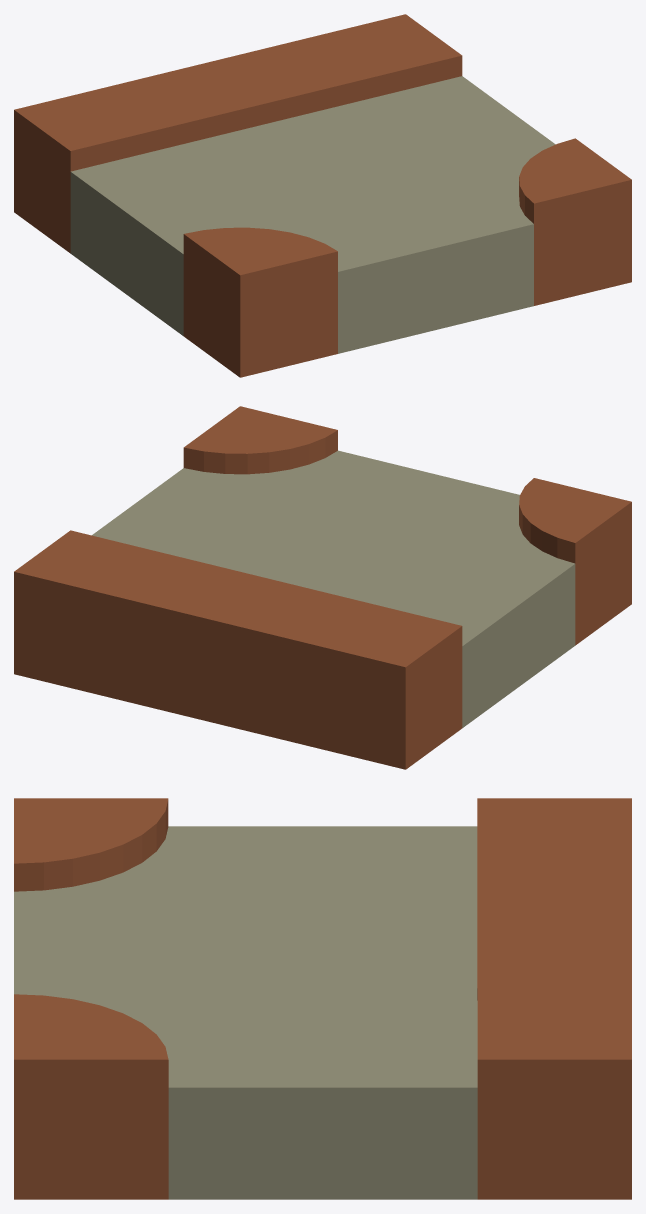
Rendered from Floor-Outdoor-4x4x1-Path-Narrow-Tee.FBX.
3 views of the same model, one above another, from view 1: azimuth 30°, elevation 25°; view 2: azimuth 150°, elevation 25°; view 3: azimuth 270°, elevation 25° (orthographic). The views are drawn at different scales.
Visible parts, largest first — view 1: Floor-Outdoor-4x4x1-Path-Narrow-Tee; view 2: Floor-Outdoor-4x4x1-Path-Narrow-Tee; view 3: Floor-Outdoor-4x4x1-Path-Narrow-Tee.
Boxes of the visible parts, bbox=[...] form: Floor-Outdoor-4x4x1-Path-Narrow-Tee: bbox=[14, 14, 631, 377]; Floor-Outdoor-4x4x1-Path-Narrow-Tee: bbox=[14, 406, 631, 769]; Floor-Outdoor-4x4x1-Path-Narrow-Tee: bbox=[14, 798, 631, 1199].
Size of the model in its own units: 40 by 40 by 10.
